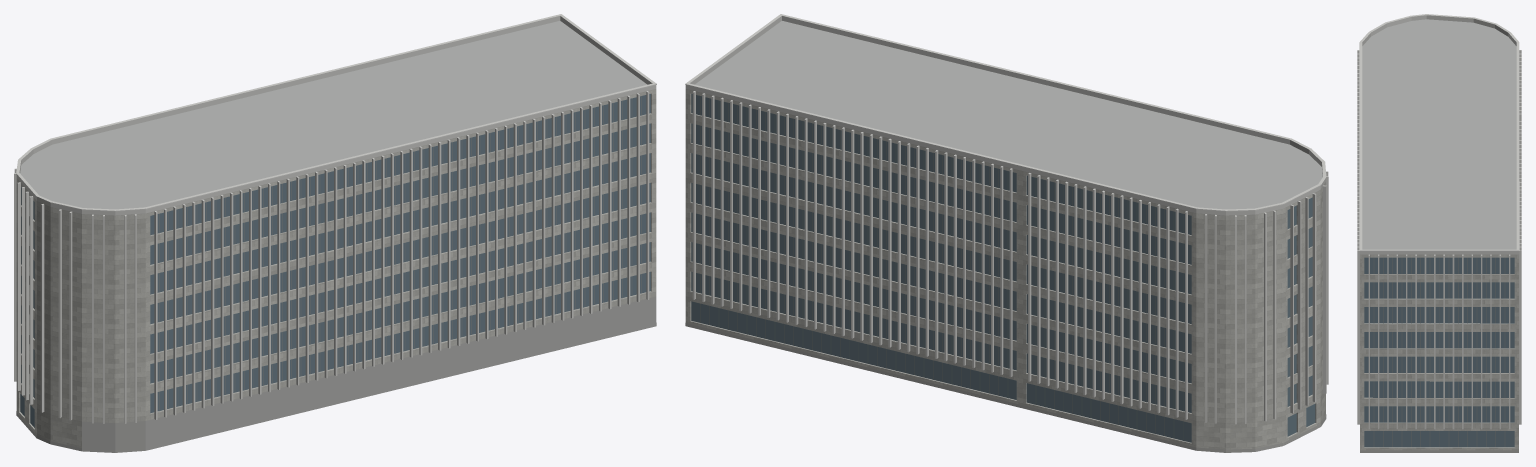
The picture shows the model from 3 angles, left to right: view 1: azimuth 30°, elevation 25°; view 2: azimuth 150°, elevation 25°; view 3: azimuth 270°, elevation 25°; orthographic projection. The views are drawn at different scales.
Visible parts, largest first — view 1: namDuckwoo__trim, namDuckwoo__wall, namDuckwoo__glass, namDuckwoo__roof, namDuckwoo__base, namDuckwoo__frame, namDuckwoo__parapet; view 2: namDuckwoo__glass, namDuckwoo__wall, namDuckwoo__trim, namDuckwoo__roof, namDuckwoo__frame, namDuckwoo__parapet, namDuckwoo__base; view 3: namDuckwoo__roof, namDuckwoo__glass, namDuckwoo__wall, namDuckwoo__trim, namDuckwoo__frame, namDuckwoo__parapet, namDuckwoo__base.
Part boxes in pixels (left/top/right/bottom): namDuckwoo__trim: left=14, top=14, right=656, bottom=423; namDuckwoo__wall: left=16, top=89, right=656, bottom=447; namDuckwoo__glass: left=20, top=94, right=650, bottom=427; namDuckwoo__roof: left=20, top=21, right=647, bottom=209; namDuckwoo__base: left=16, top=296, right=656, bottom=452; namDuckwoo__frame: left=159, top=96, right=641, bottom=411; namDuckwoo__parapet: left=16, top=16, right=656, bottom=215; namDuckwoo__glass: left=691, top=94, right=1315, bottom=442; namDuckwoo__wall: left=685, top=89, right=1325, bottom=449; namDuckwoo__trim: left=685, top=14, right=1328, bottom=424; namDuckwoo__roof: left=695, top=21, right=1322, bottom=209; namDuckwoo__frame: left=700, top=96, right=1183, bottom=440; namDuckwoo__parapet: left=685, top=16, right=1325, bottom=215; namDuckwoo__base: left=685, top=323, right=1326, bottom=452; namDuckwoo__roof: left=1362, top=19, right=1516, bottom=249; namDuckwoo__glass: left=1364, top=257, right=1514, bottom=447; namDuckwoo__wall: left=1360, top=254, right=1518, bottom=450; namDuckwoo__trim: left=1357, top=14, right=1521, bottom=429; namDuckwoo__frame: left=1373, top=257, right=1505, bottom=447; namDuckwoo__parapet: left=1360, top=15, right=1518, bottom=254; namDuckwoo__base: left=1360, top=450, right=1518, bottom=452.
Bounding box in the file's own units: 74.12 × 29.4 × 21.65.
7 materials, 1 textured.
